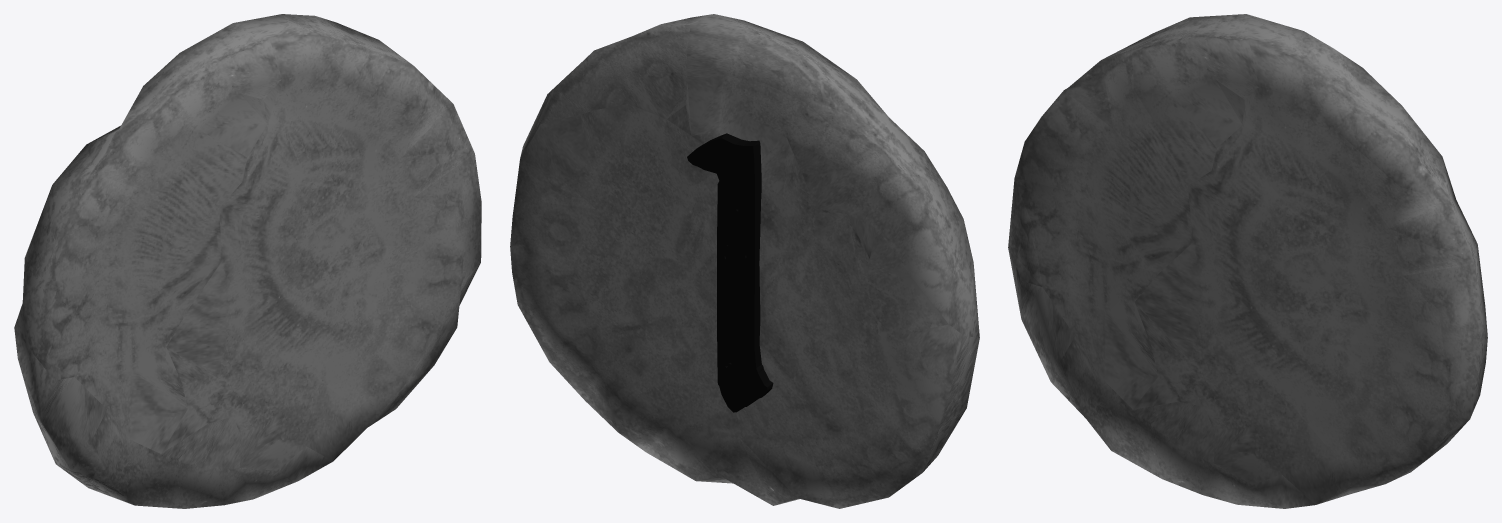
File: coin_1_new.fbx
3 views of the same model, side by side, from view 1: azimuth 30°, elevation 25°; view 2: azimuth 150°, elevation 25°; view 3: azimuth 330°, elevation 25° (orthographic). The views are drawn at different scales.
Visible parts, largest first — view 1: 1 COIN NEW; view 2: 1 COIN NEW; view 3: 1 COIN NEW.
Part boxes in pixels (x1,y1,x2,y2): 1 COIN NEW: [14, 14, 481, 508]; 1 COIN NEW: [510, 14, 979, 508]; 1 COIN NEW: [1008, 14, 1487, 508].
Size of the model in its own units: 15.35 by 124 by 121.
Materials: 2 (1 with a texture image).
